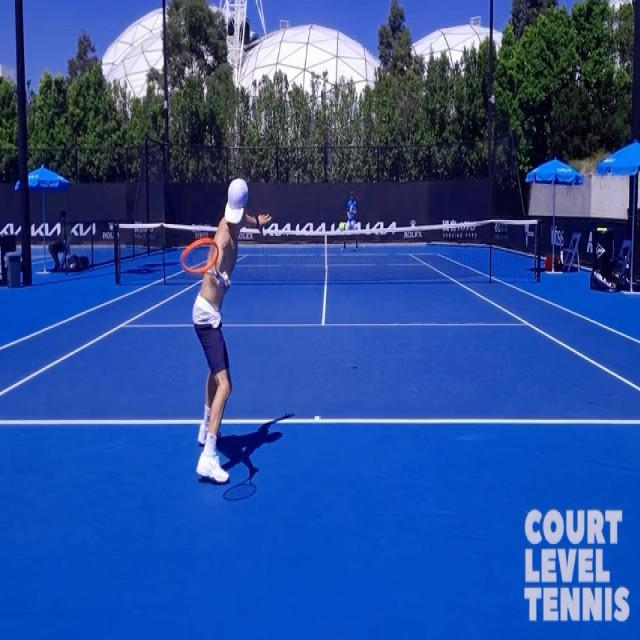forehand-ready: (179, 176, 271, 485)
